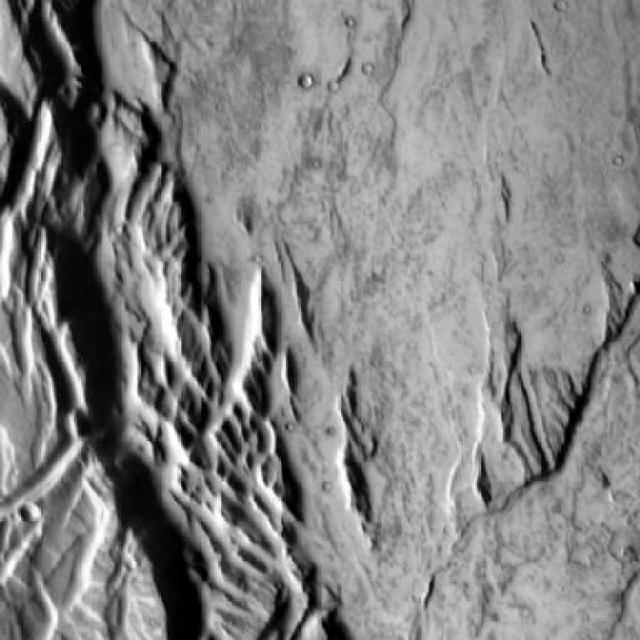crater: (21, 503, 39, 522)
